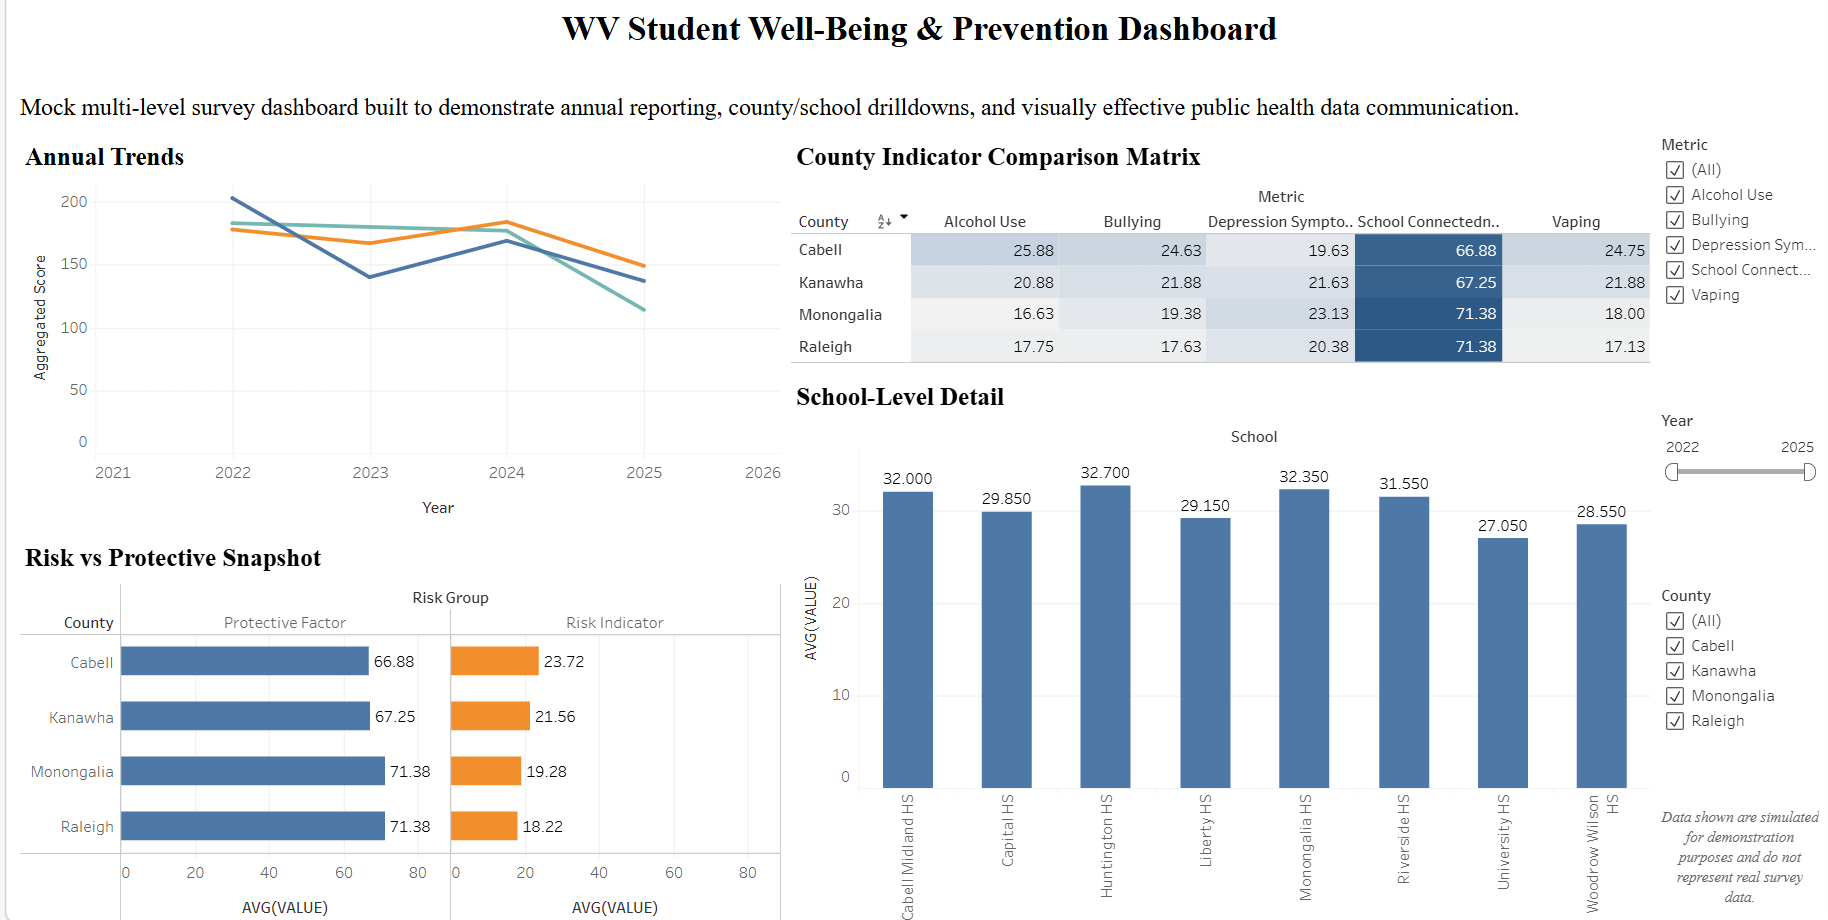

What the dashboard file says about the page in this screenshot:
{"tool":"tableau","page":{"name":"WV Student Well-Being & Prevention Dashboard","canvas":[1000,1000],"units":"permille","ordinal":0},"visuals":[{"type":"title","box":[4.8,8,990.3,147.8]},{"type":"worksheet","title":"Annual Trends","mark":"Line","rows":["Value"],"cols":["Year"],"box":[4.8,155.8,489.4,418]},{"type":"worksheet","title":"County Indicator Comparison Matrix","mark":"Square","rows":["County"],"cols":["Metric"],"box":[494.3,155.8,420,249.7]},{"type":"filter","title":"County Indicator Comparison Matrix","param":"[federated.0cwjmdj0l3b47818opldh14ddfxf].[none:Metric:nk]","box":[914.3,155.8,80.9,220.8]},{"type":"filter","title":"School-Level Detail","param":"[federated.0cwjmdj0l3b47818opldh14ddfxf].[none:Year:qk]","box":[914.3,376.6,80.9,139.9]},{"type":"worksheet","title":"School-Level Detail","mark":"Bar","rows":["Calculation_2391974404369915904"],"cols":["School"],"box":[494.3,405.6,420,586.5]},{"type":"filter","title":"Risk vs Protective Snapshot","param":"[federated.0cwjmdj0l3b47818opldh14ddfxf].[none:County:nk]","box":[914.3,516.5,80.9,150.8]},{"type":"worksheet","title":"Risk vs Protective Snapshot","mark":"Automatic","rows":["County"],"cols":["Calculation_2391974404376612865","Calculation_2391974404369915904"],"box":[4.8,573.8,489.4,418.2]},{"type":"text","box":[914.3,838.3,80.9,153.7]}]}

Visuals, with their boxes on the dashboard's canvas, which has no fixed pixel size, in thousandths of its width and height (x1, y1, x2, y2). These are canvas units, not pixel positions in the 1828x920 screenshot, which may show the page scaled, cropped or inside an application window:
title: <box>5,8,995,156</box>
"Annual Trends" worksheet (Line marks): <box>5,156,494,574</box>
"County Indicator Comparison Matrix" worksheet (Square marks): <box>494,156,914,406</box>
"County Indicator Comparison Matrix" filter: <box>914,156,995,377</box>
"School-Level Detail" filter: <box>914,377,995,516</box>
"School-Level Detail" worksheet (Bar marks): <box>494,406,914,992</box>
"Risk vs Protective Snapshot" filter: <box>914,516,995,667</box>
"Risk vs Protective Snapshot" worksheet: <box>5,574,494,992</box>
text: <box>914,838,995,992</box>
